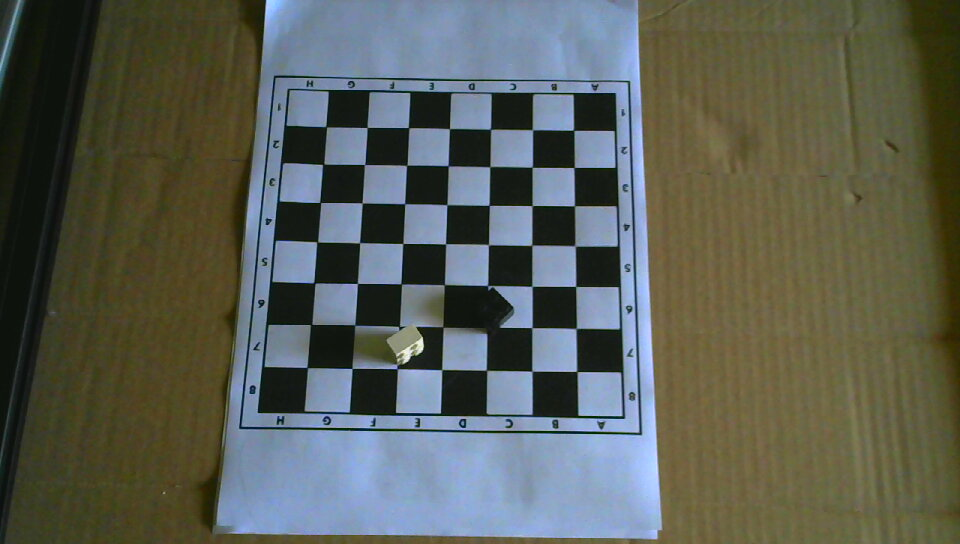bp: (473, 286, 514, 335)
wp: (385, 324, 426, 366)
